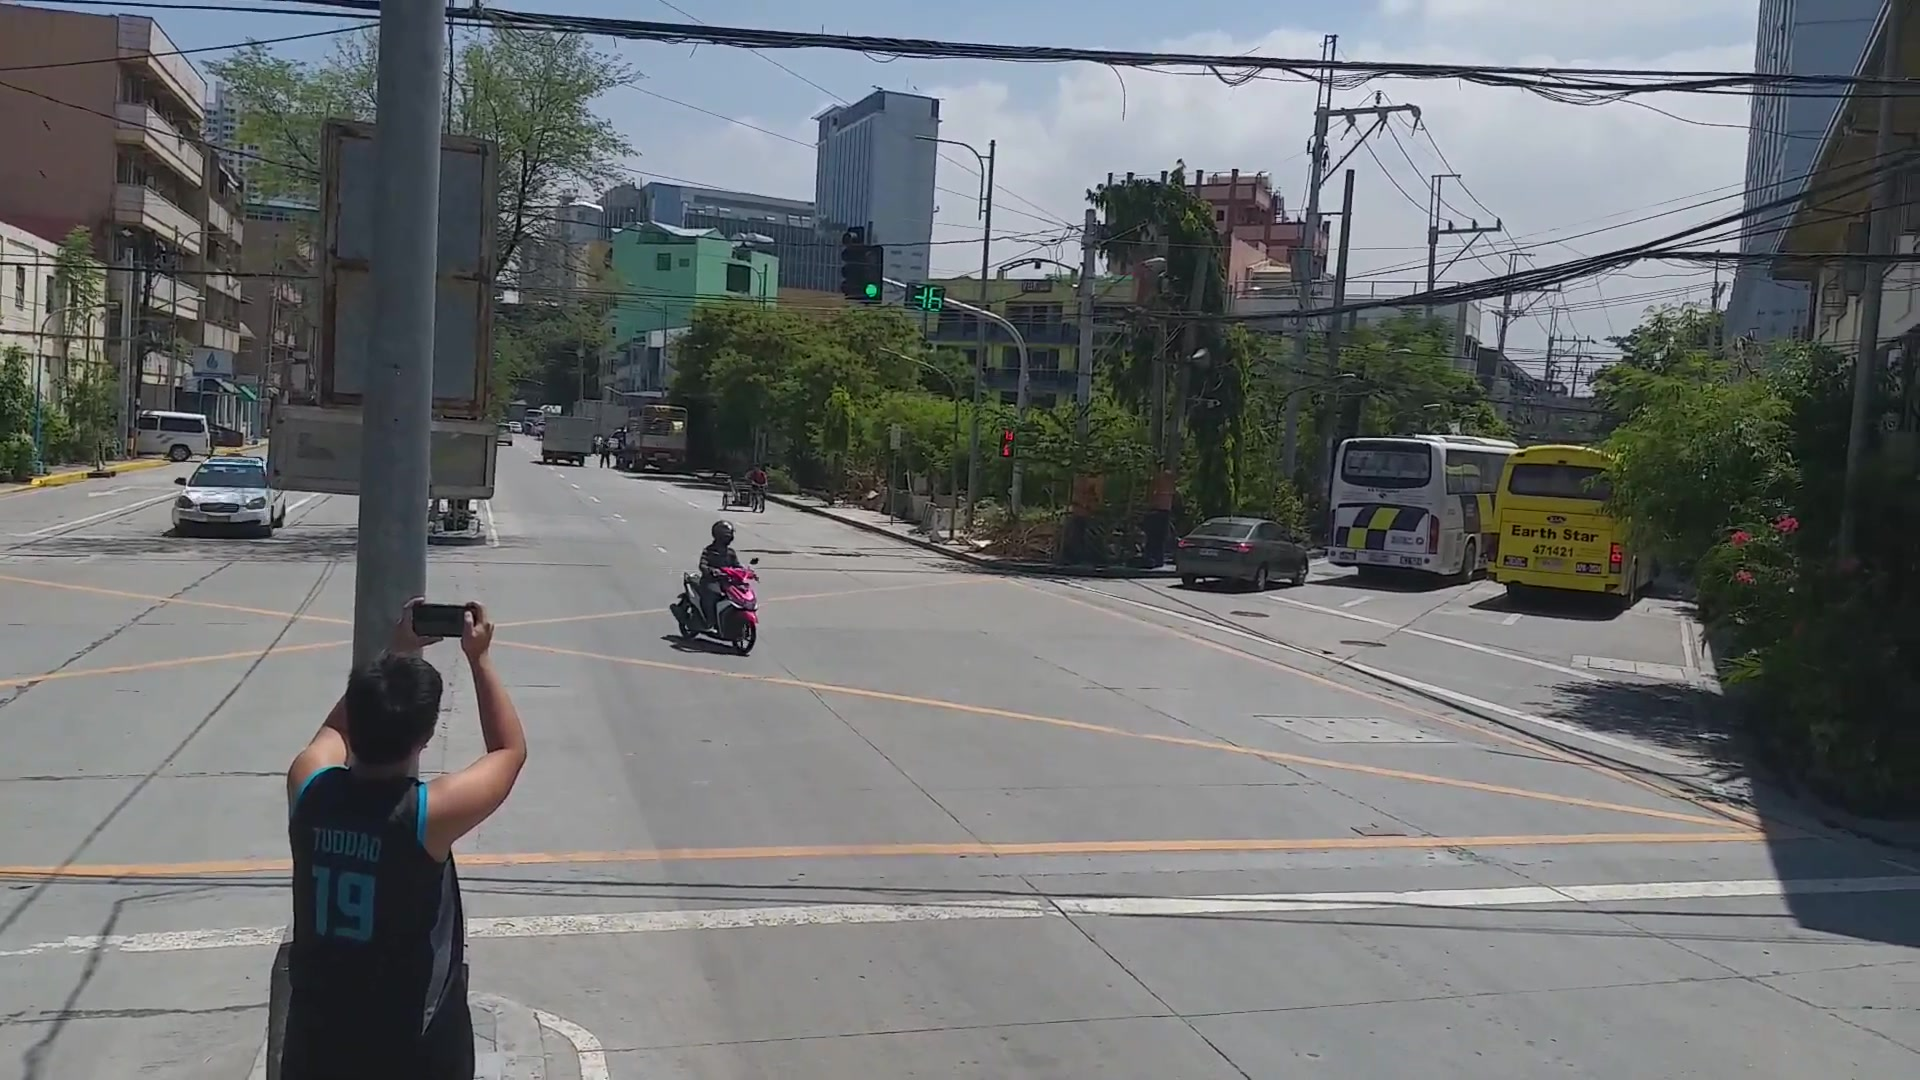truck: (531, 411, 607, 476)
